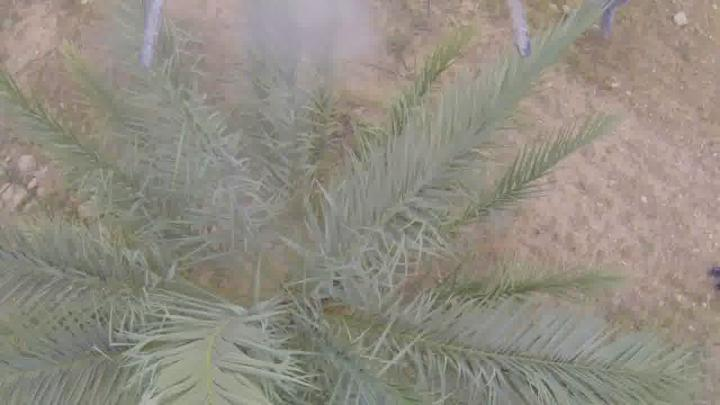Date-Palm-Crown: (67, 84, 515, 405)
